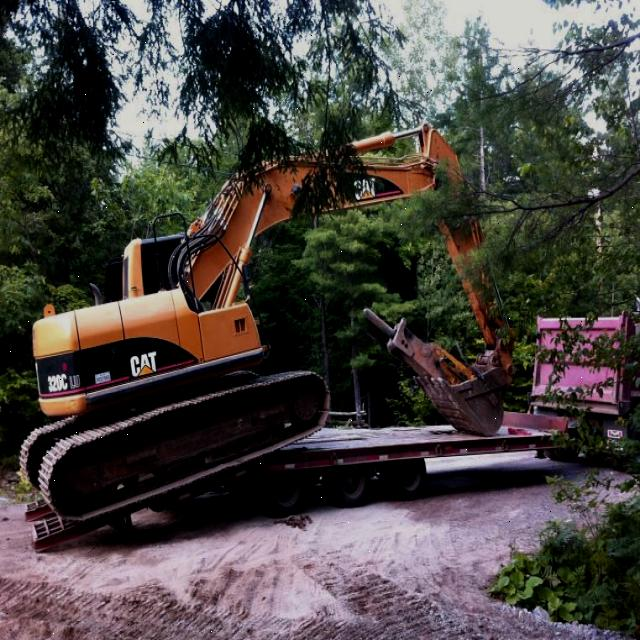Excavator: (18, 121, 516, 553)
